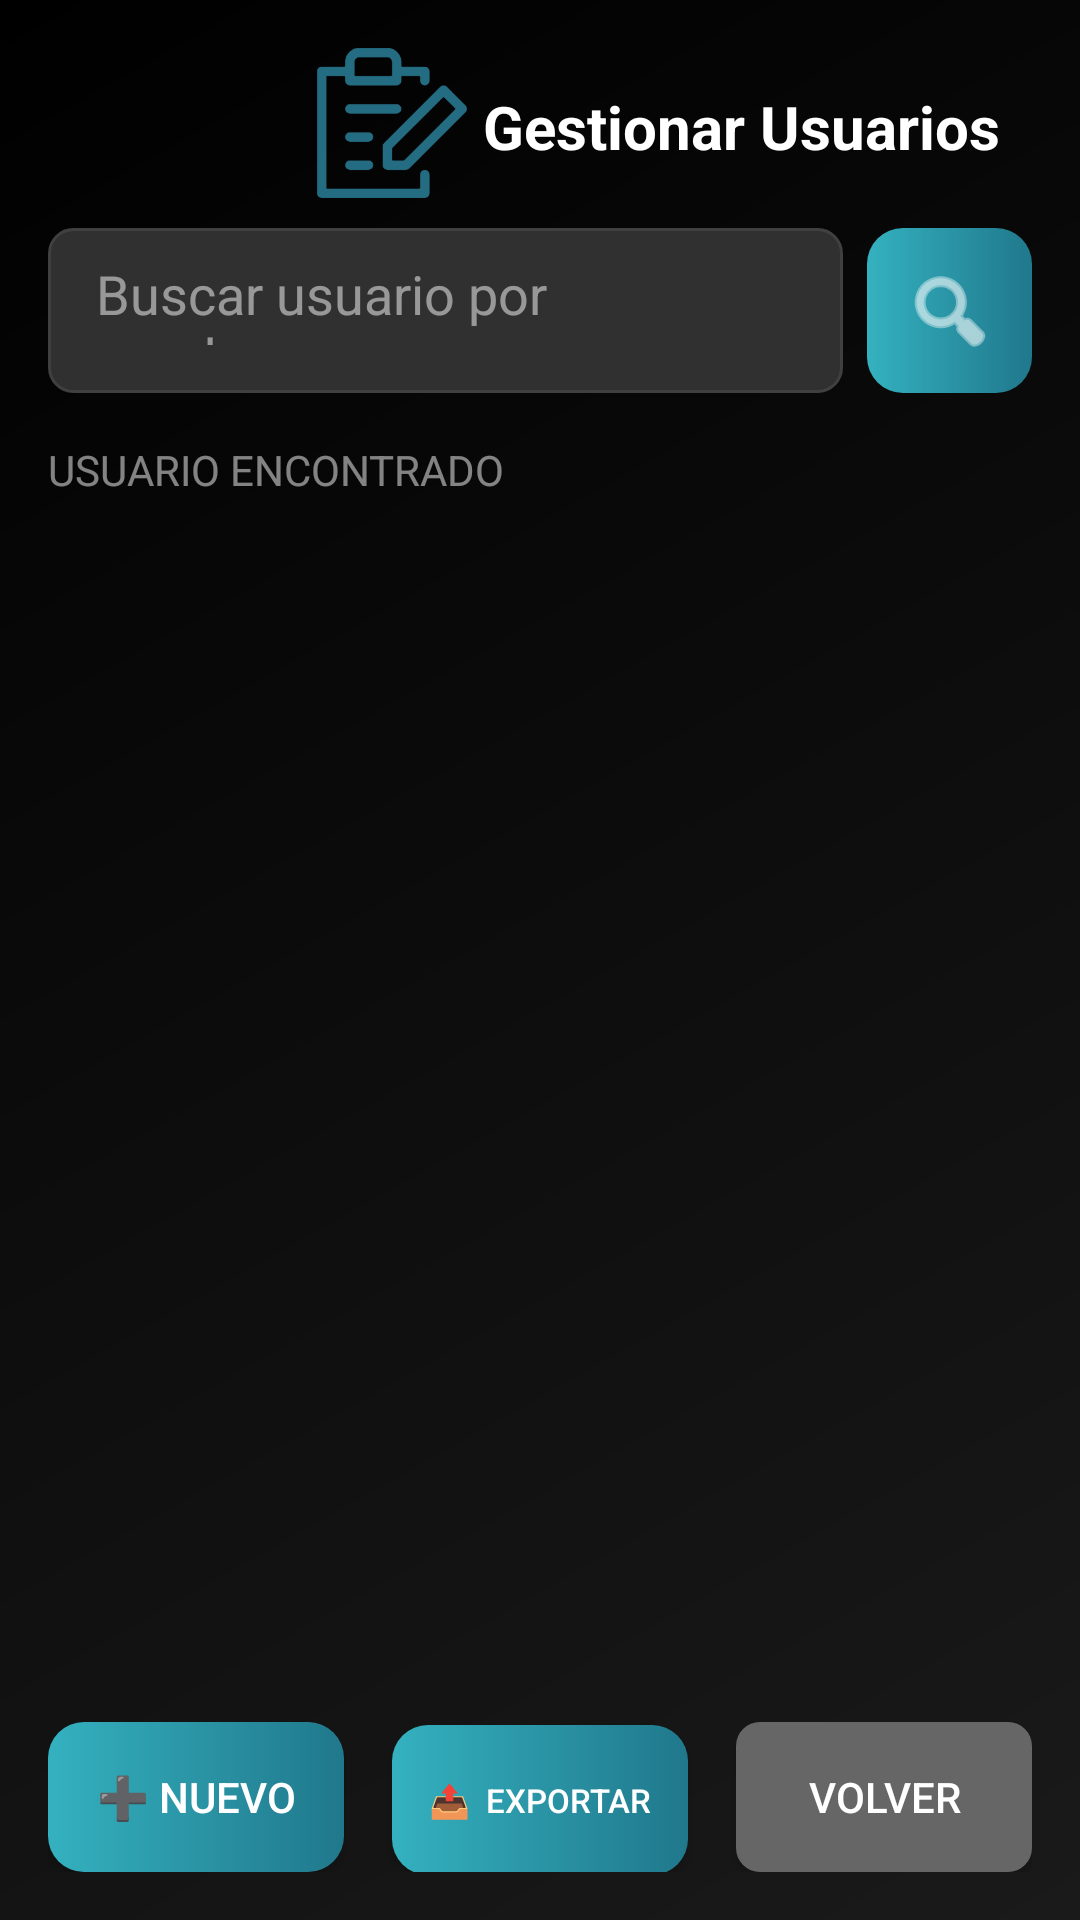

Icon click points for this 1080×1920 phone screenshot, format point (x, y):
search: point (949, 310)
